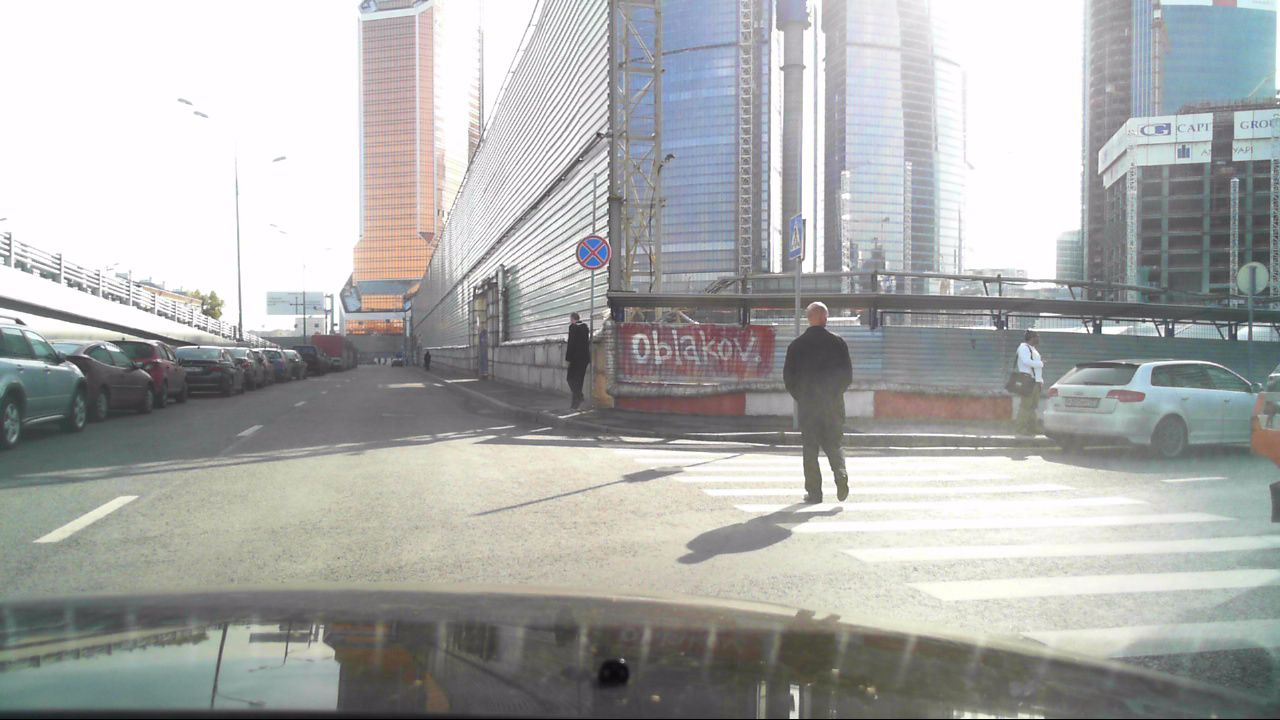No Parking: (578, 236, 612, 273)
